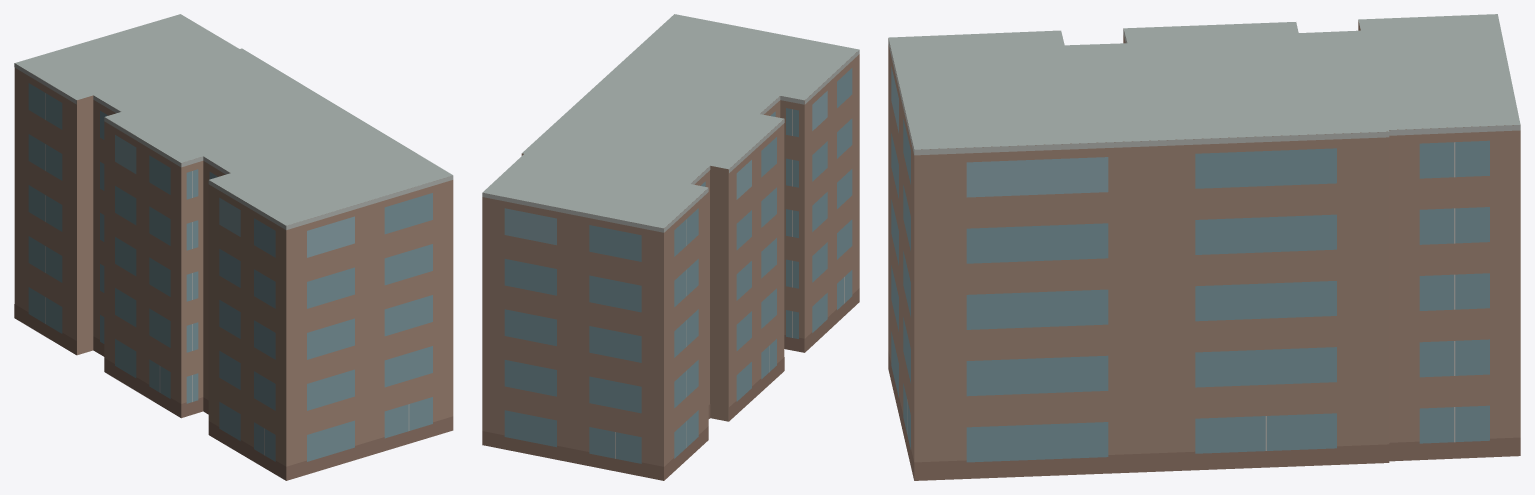
The model's file is survey-upis-32662165.glb.
3 renders of one model, left to right at view 1: azimuth 30°, elevation 25°; view 2: azimuth 150°, elevation 25°; view 3: azimuth 270°, elevation 25°, orthographic. The views are drawn at different scales.
Parts seen in each view (by area): view 1: survey-upis-32662165.tmp; view 2: survey-upis-32662165.tmp; view 3: survey-upis-32662165.tmp.
Boxes of the visible parts, x1=… form: survey-upis-32662165.tmp: x1=14, y1=14, x2=453, y2=480; survey-upis-32662165.tmp: x1=482, y1=14, x2=859, y2=480; survey-upis-32662165.tmp: x1=888, y1=14, x2=1520, y2=480.
Bounding box in the file's own units: 12.49 × 14.2 × 24.58.
